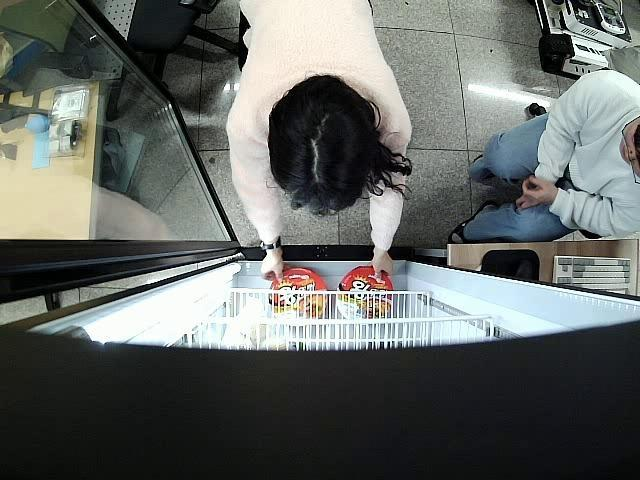10_wangTtukkeong: (266, 268, 328, 324), (338, 268, 392, 320)
